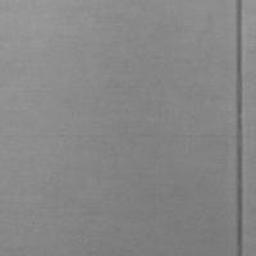Welding line: (234, 0, 244, 256)
